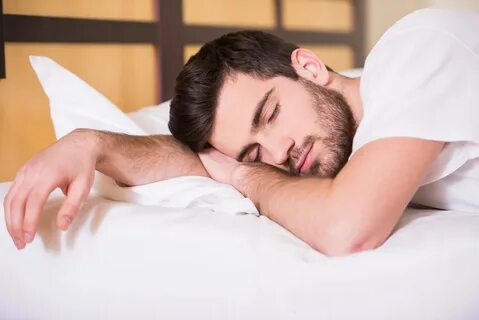sleep: (4, 10, 477, 255)
